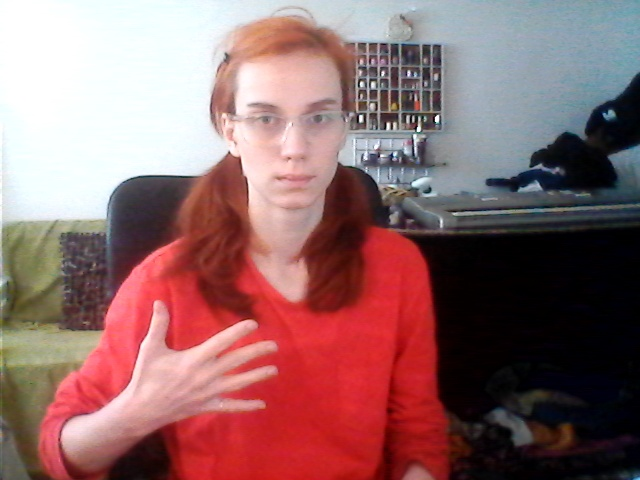pat: (135, 298, 276, 420)
